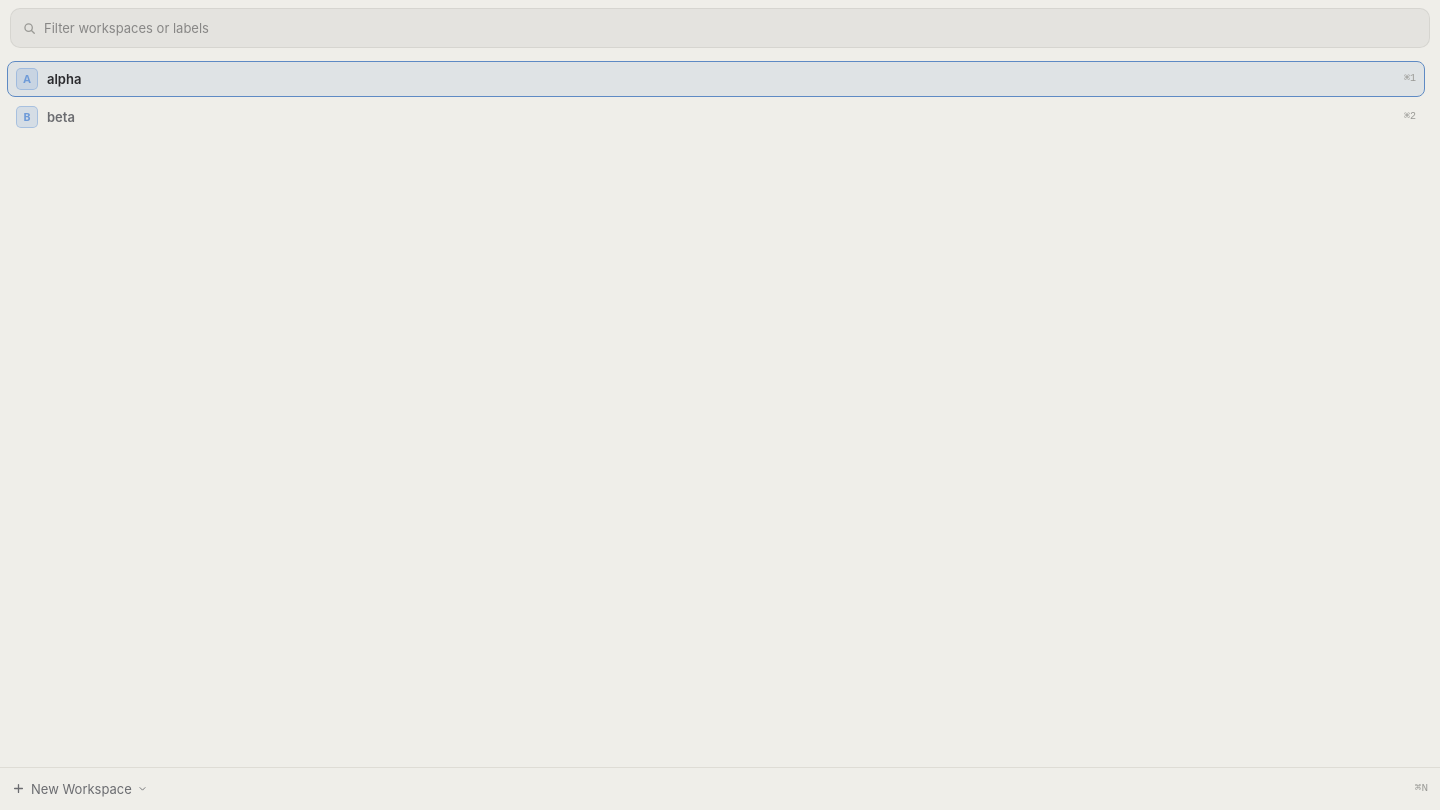
workspace delete gate › names the running agents and offers the suppression box
Right-click the option with test id "workspace-row" showing "A alpha ⌘1" at (64, 79), box x1=8 y1=62 x2=1424 y2=96
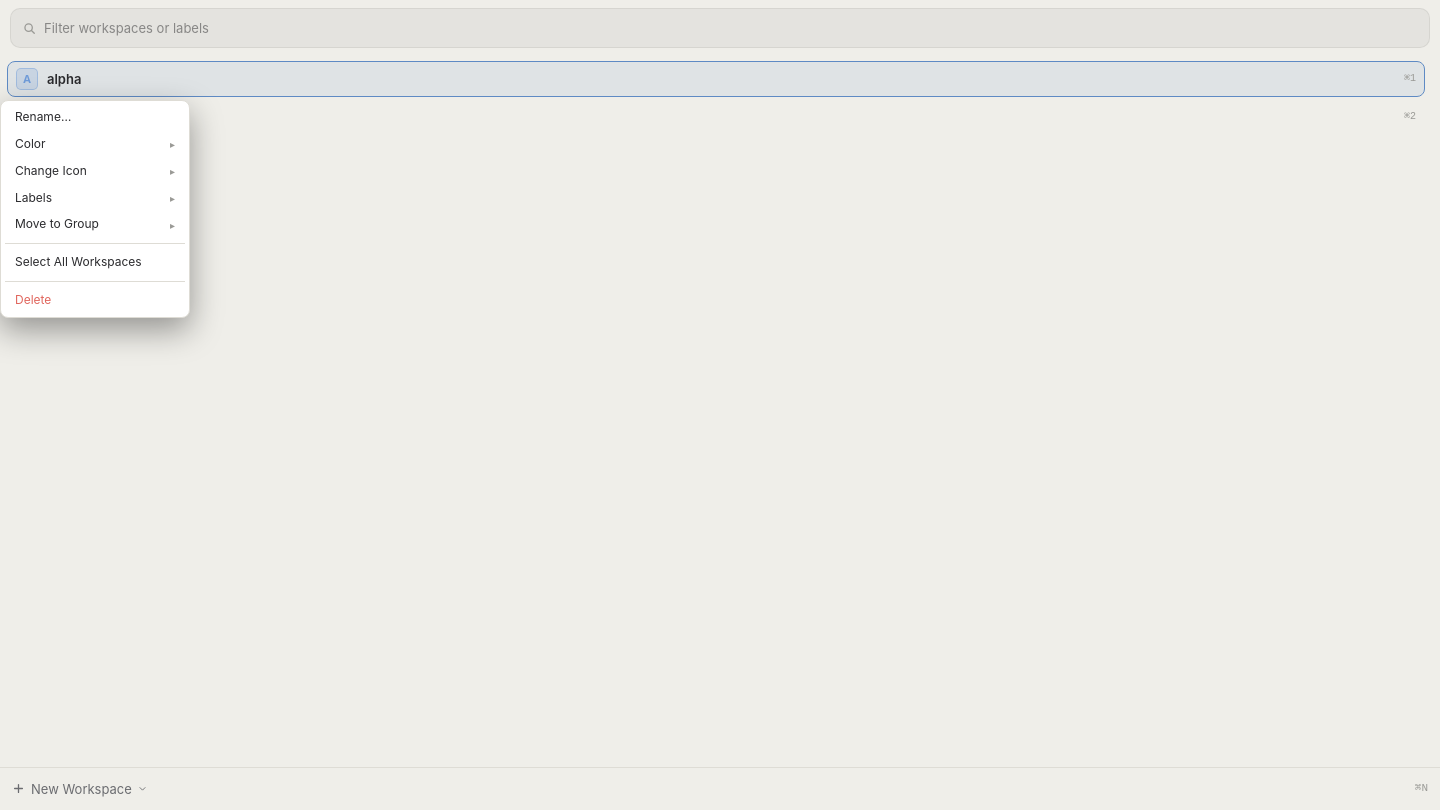
Click the menu item "Delete" at (95, 300), box x1=5 y1=288 x2=185 y2=313
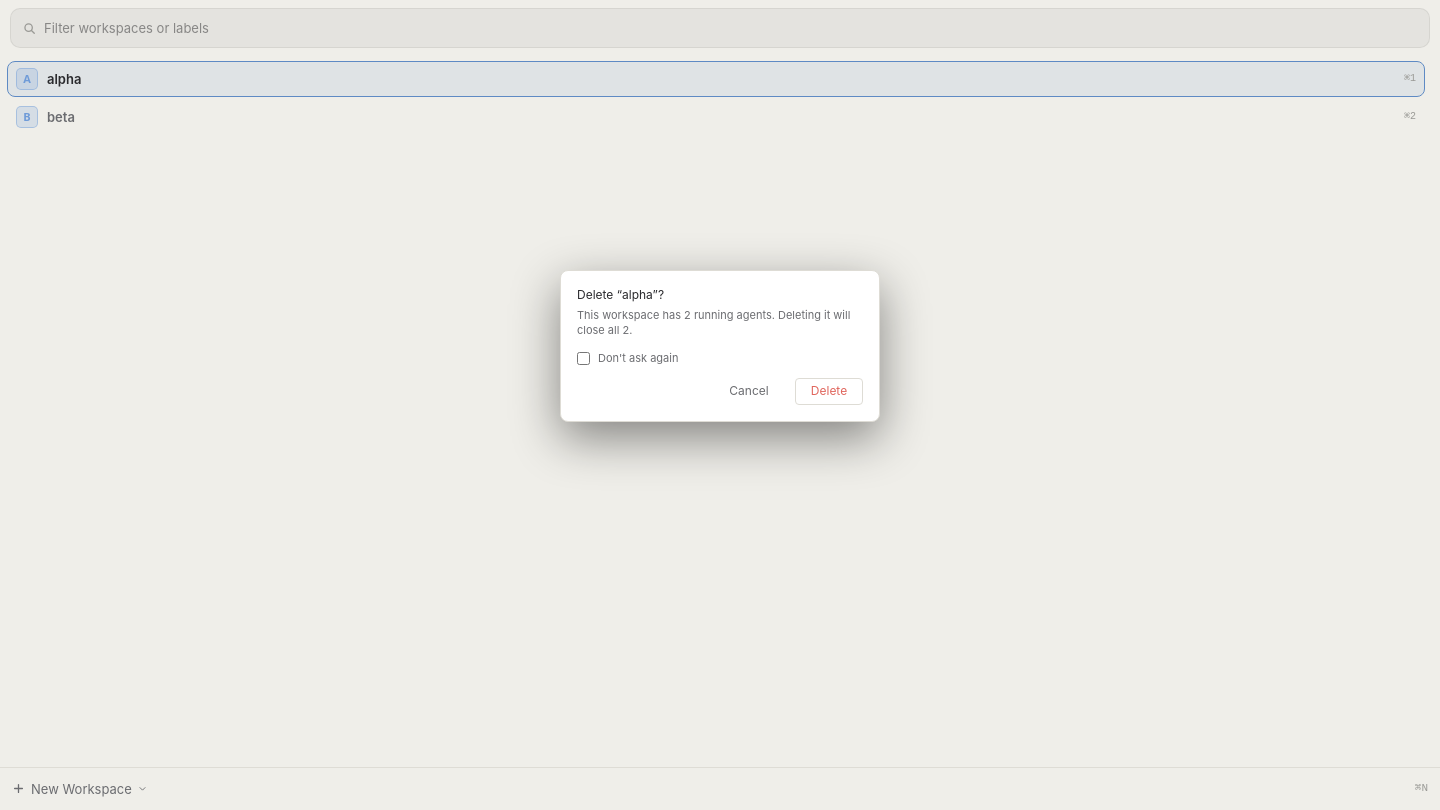
Expected: the text with test id "confirm-active-agents" reads "This workspace has 2 running agents. Deleting it will close all 2.", x1=577 y1=308 x2=850 y2=337
Expected: the checkbox with test id "confirm-suppress" is shown, x1=577 y1=352 x2=590 y2=365
